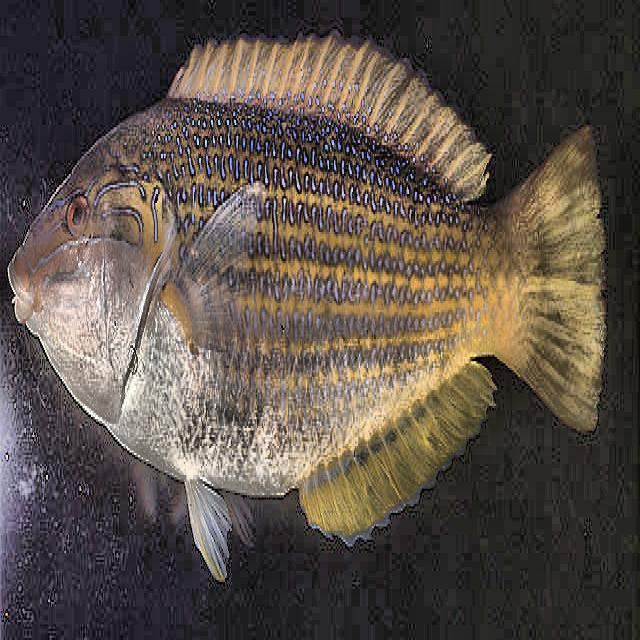fish: (7, 30, 608, 592)
